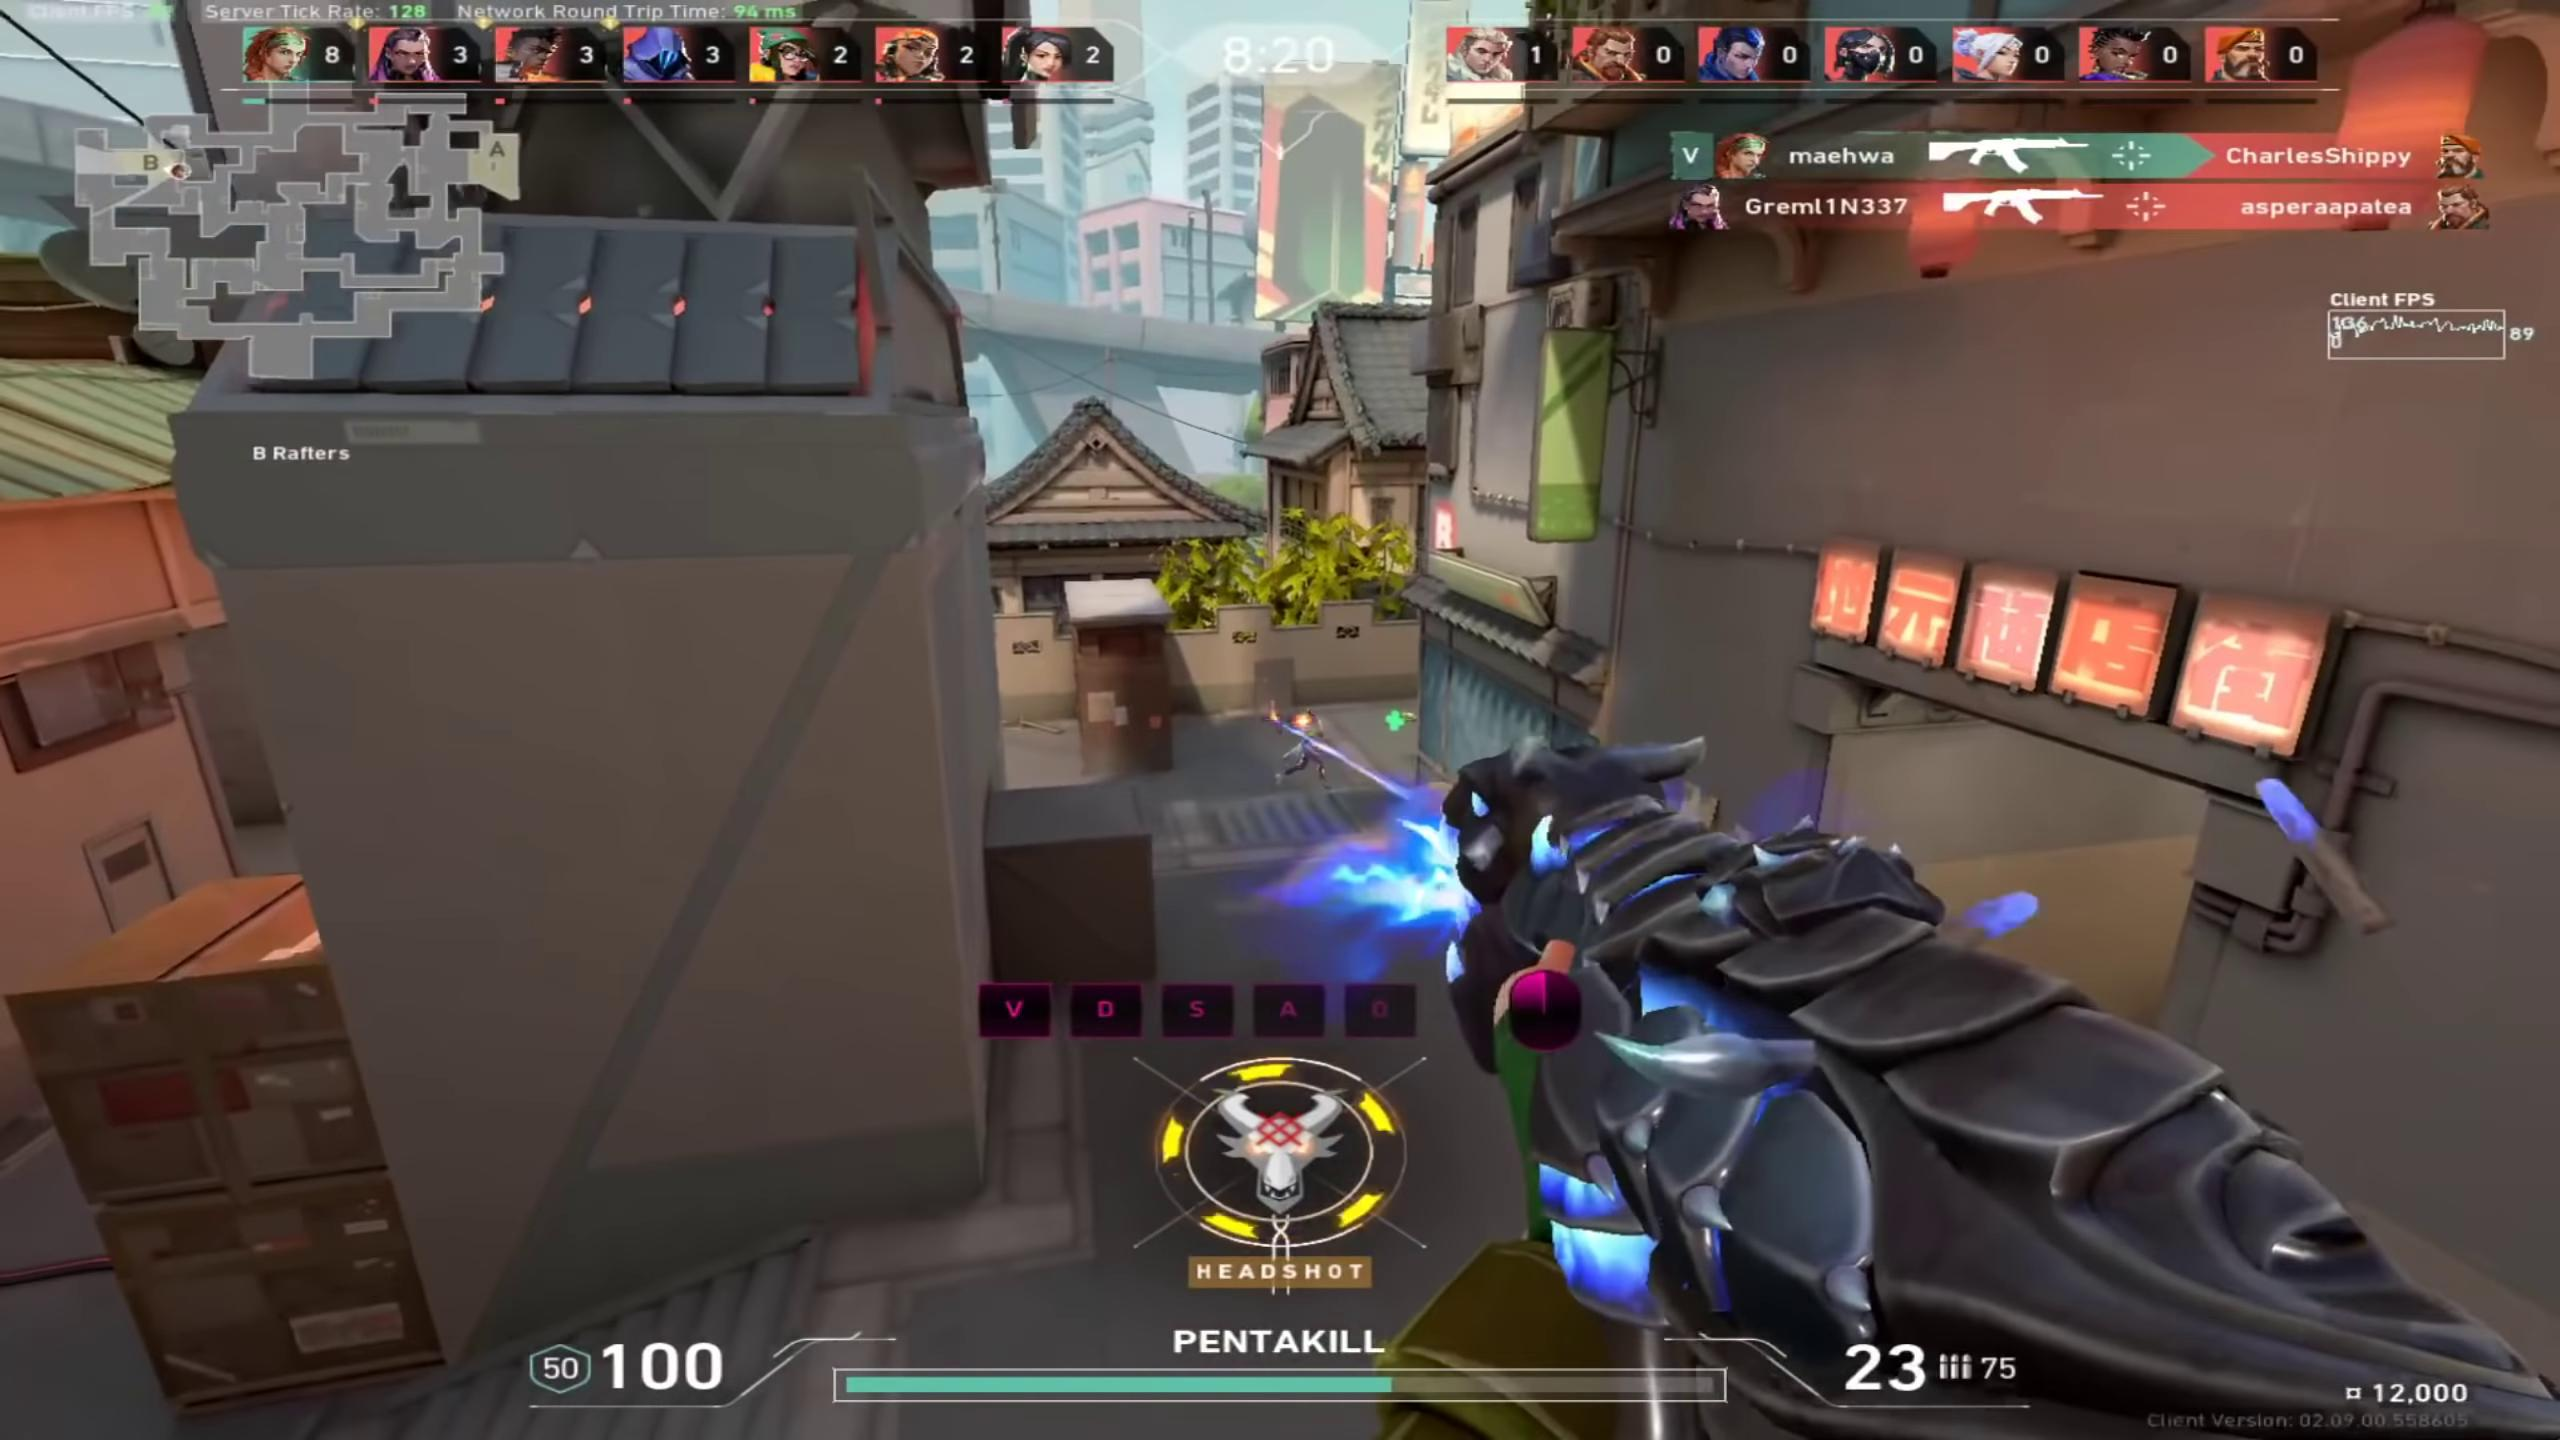Body: (1276, 700, 1335, 789)
